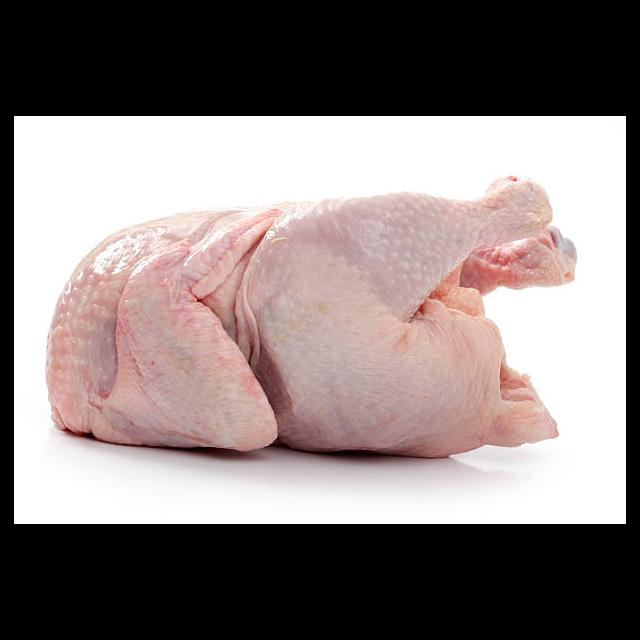chicken: (43, 172, 578, 457)
